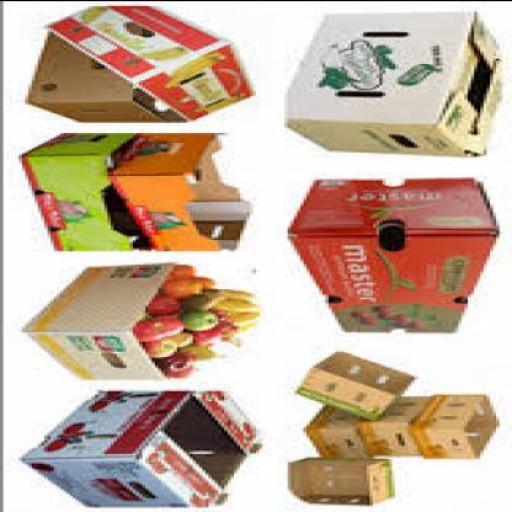cardboard: (288, 176, 506, 331), (287, 8, 509, 154), (25, 387, 269, 504), (47, 4, 259, 117), (25, 262, 177, 377), (111, 130, 256, 250), (32, 20, 190, 120), (25, 130, 155, 250), (300, 349, 418, 415), (414, 392, 505, 456), (291, 454, 395, 502), (360, 393, 436, 455), (306, 402, 373, 455)
